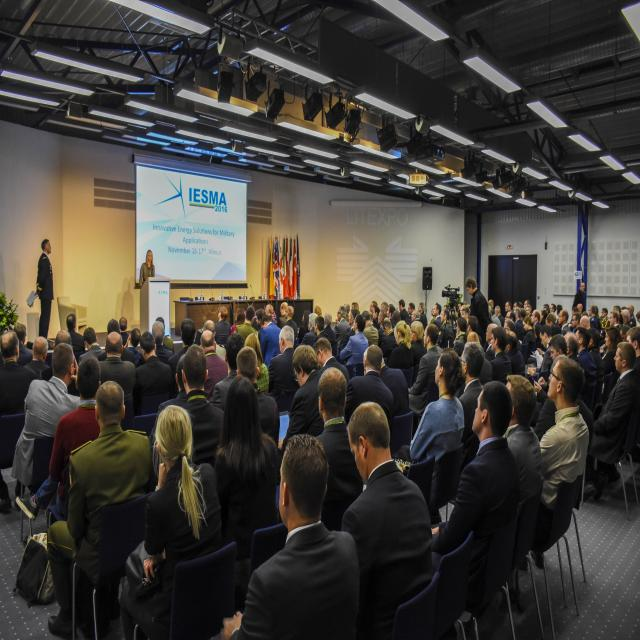body: (43, 374, 156, 640), (221, 432, 362, 640), (116, 399, 227, 639), (336, 397, 434, 639), (564, 331, 640, 640), (428, 379, 518, 597), (14, 353, 102, 525), (211, 371, 283, 566), (528, 352, 590, 570), (390, 347, 465, 525), (9, 341, 81, 514), (502, 373, 544, 576), (587, 342, 637, 502), (0, 327, 37, 511), (486, 296, 640, 336), (176, 344, 225, 468), (277, 344, 325, 454), (368, 298, 483, 340), (342, 343, 395, 428), (148, 351, 190, 455), (97, 330, 138, 432), (456, 341, 486, 477), (131, 329, 174, 419), (362, 343, 410, 419), (407, 322, 442, 417), (266, 324, 300, 413), (38, 328, 81, 398), (210, 330, 246, 410), (534, 333, 568, 405), (34, 237, 54, 351), (167, 318, 196, 396), (199, 329, 229, 403), (308, 301, 360, 341), (98, 318, 136, 366), (314, 336, 350, 386), (465, 276, 489, 350), (526, 324, 554, 384), (339, 313, 369, 365), (244, 332, 269, 392), (574, 326, 598, 386), (387, 319, 415, 370), (489, 326, 512, 387), (599, 325, 623, 383), (22, 336, 52, 380), (259, 314, 282, 369), (625, 325, 640, 405), (78, 326, 107, 367), (602, 325, 623, 381), (253, 299, 290, 329), (202, 318, 227, 362), (123, 327, 147, 369), (504, 330, 525, 378), (587, 326, 606, 379), (13, 322, 34, 368), (234, 305, 259, 343), (518, 315, 538, 361), (64, 313, 86, 353), (154, 314, 174, 354), (410, 320, 427, 367), (361, 310, 379, 348), (281, 304, 298, 342), (139, 249, 155, 289), (214, 305, 231, 342), (484, 322, 499, 361), (296, 310, 312, 344), (571, 280, 586, 312), (230, 307, 246, 335), (119, 316, 130, 346)
